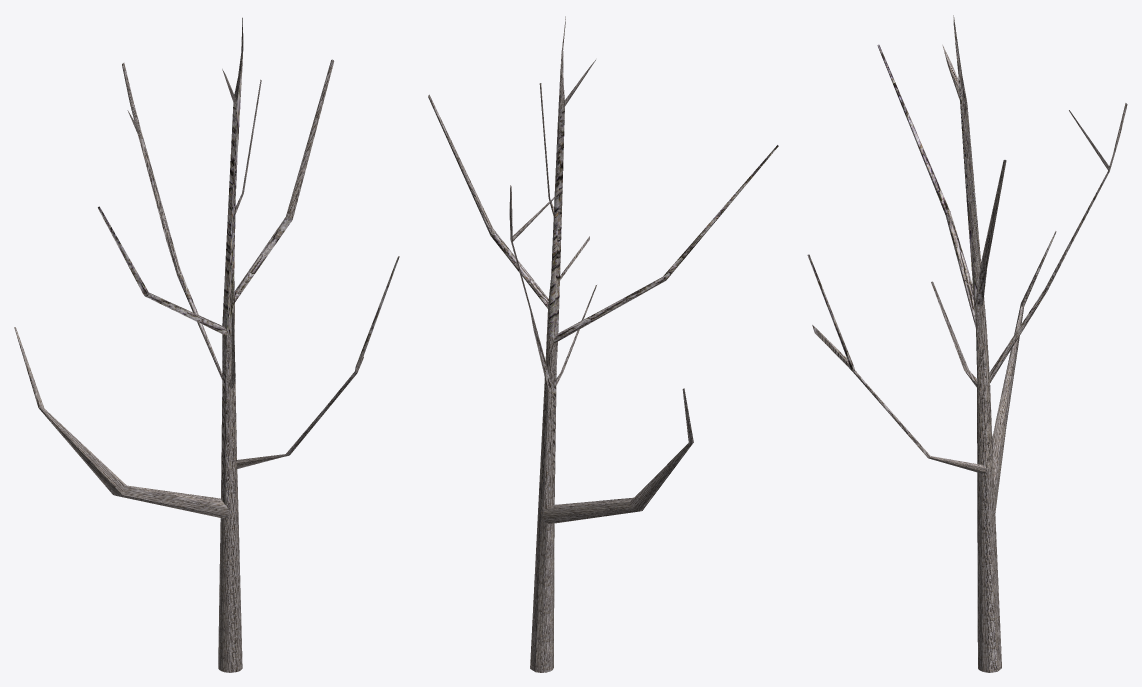
File: tree03_b.glb
3 renders of one model, left to right at view 1: azimuth 30°, elevation 25°; view 2: azimuth 150°, elevation 25°; view 3: azimuth 270°, elevation 25°, orthographic. The views are drawn at different scales.
Visible parts, largest first — view 1: 1_bark-1_0; view 2: 1_bark-1_0; view 3: 1_bark-1_0.
Boxes of the visible parts, x1,y1,x2,y2 form: 1_bark-1_0: (14, 17, 399, 672); 1_bark-1_0: (428, 16, 778, 672); 1_bark-1_0: (807, 15, 1127, 672).
Bounding box in the file's own units: 3.82 × 8.13 × 3.63.
1 material, 1 textured.
